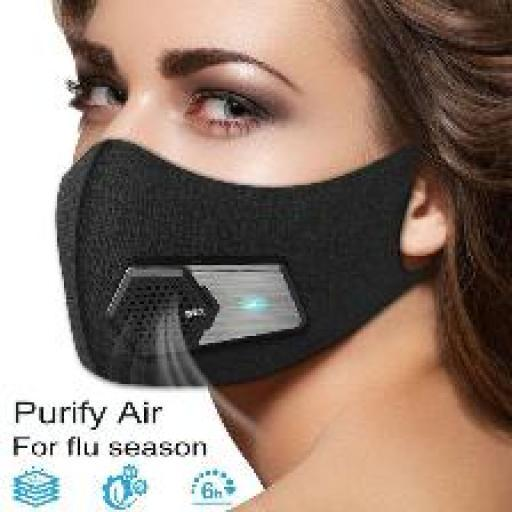mask: (41, 132, 433, 392)
